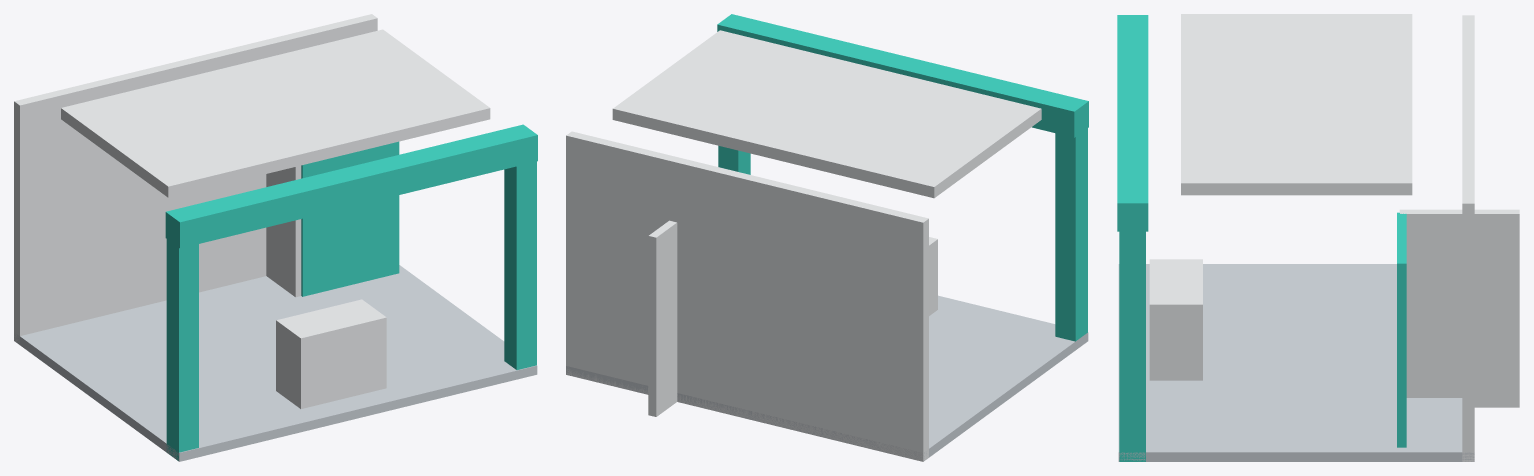
3 views of the same model, side by side, from view 1: azimuth 30°, elevation 25°; view 2: azimuth 150°, elevation 25°; view 3: azimuth 270°, elevation 25° (orthographic). The views are drawn at different scales.
Visible parts, largest first — view 1: Exhibition Booth Concept; view 2: Exhibition Booth Concept; view 3: Exhibition Booth Concept.
Boxes of the visible parts, bbox=[...] form: Exhibition Booth Concept: bbox=[14, 14, 537, 461]; Exhibition Booth Concept: bbox=[566, 14, 1088, 461]; Exhibition Booth Concept: bbox=[1117, 14, 1519, 461].
Bounding box in the file's own units: 5 × 3.34 × 4.52.
